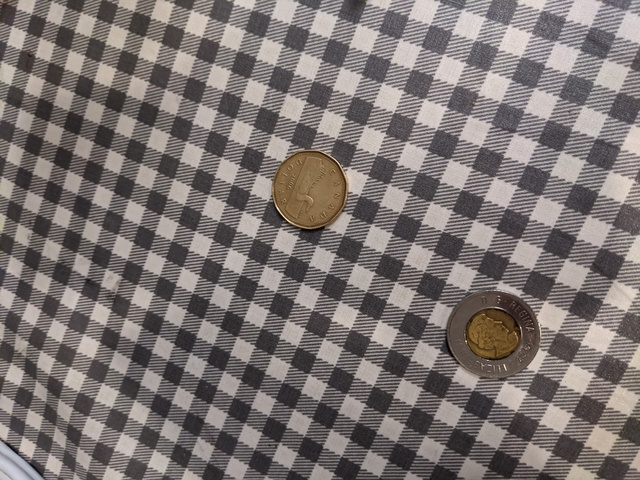loonie: (269, 146, 355, 236)
twonie: (441, 281, 557, 374)
